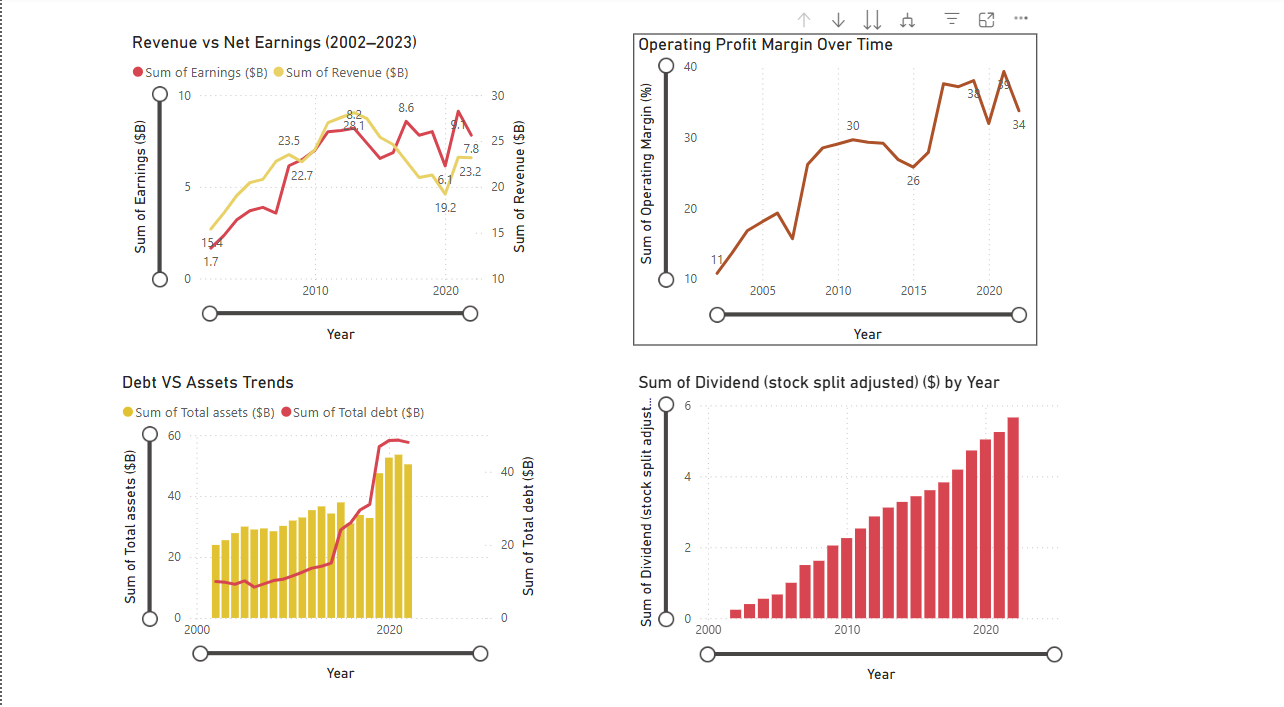

The page's visual inventory and layout, read from the dashboard file:
{"tool":"powerbi","page":{"name":"Page 1","canvas":[1280,720],"ordinal":0},"visuals":[{"type":"lineChart","title":"Revenue vs Net Earnings (2002–2023)","fields":{"Y":["Sum(mcd_cleaned_financials.Earnings ($B))"],"Y2":["Sum(mcd_cleaned_financials.Revenue ($B))"],"Category":["mcd_cleaned_financials.Year"]},"box":[124,36,402,312],"z":0},{"type":"lineChart","title":"Operating Profit Margin Over Time","fields":{"Category":["mcd_cleaned_financials.Year.Variation.Date Hierarchy.Year","mcd_cleaned_financials.Year.Variation.Date Hierarchy.Quarter","mcd_cleaned_financials.Year.Variation.Date Hierarchy.Month","mcd_cleaned_financials.Year.Variation.Date Hierarchy.Day"],"Y":["Sum(mcd_cleaned_financials.Operating Margin (%))"]},"box":[628.6,37.1,401.4,311.4],"z":1000},{"type":"lineClusteredColumnComboChart","title":"Debt VS Assets Trends","fields":{"Category":["mcd_cleaned_financials.Year.Variation.Date Hierarchy.Year","mcd_cleaned_financials.Year.Variation.Date Hierarchy.Quarter","mcd_cleaned_financials.Year.Variation.Date Hierarchy.Month","mcd_cleaned_financials.Year.Variation.Date Hierarchy.Day"],"Y":["Sum(mcd_cleaned_financials.Total assets ($B))"],"Y2":["Sum(mcd_cleaned_financials.Total debt ($B))"]},"box":[114.3,374.3,421.4,311.4],"z":2000},{"type":"lineStackedColumnComboChart","fields":{"Category":["mcd_cleaned_financials.Year.Variation.Date Hierarchy.Year"],"Y":["Sum(mcd_cleaned_financials.Dividend (stock split adjusted) ($))"]},"box":[628,374,438,312],"z":3000}]}

Visuals, with their boxes in screenshot pixels (x1, y1, x2, y2):
"Revenue vs Net Earnings (2002–2023)" lineChart: region(158, 0, 560, 312)
"Operating Profit Margin Over Time" lineChart: region(663, 0, 1065, 312)
"Debt VS Assets Trends" lineClusteredColumnComboChart: region(148, 338, 570, 650)
lineStackedColumnComboChart - mcd_cleaned_financials.Year.Variation.Date Hierarchy.Year x Sum(mcd_cleaned_financials.Dividend (stock split adjusted) ($)): region(663, 338, 1101, 651)
